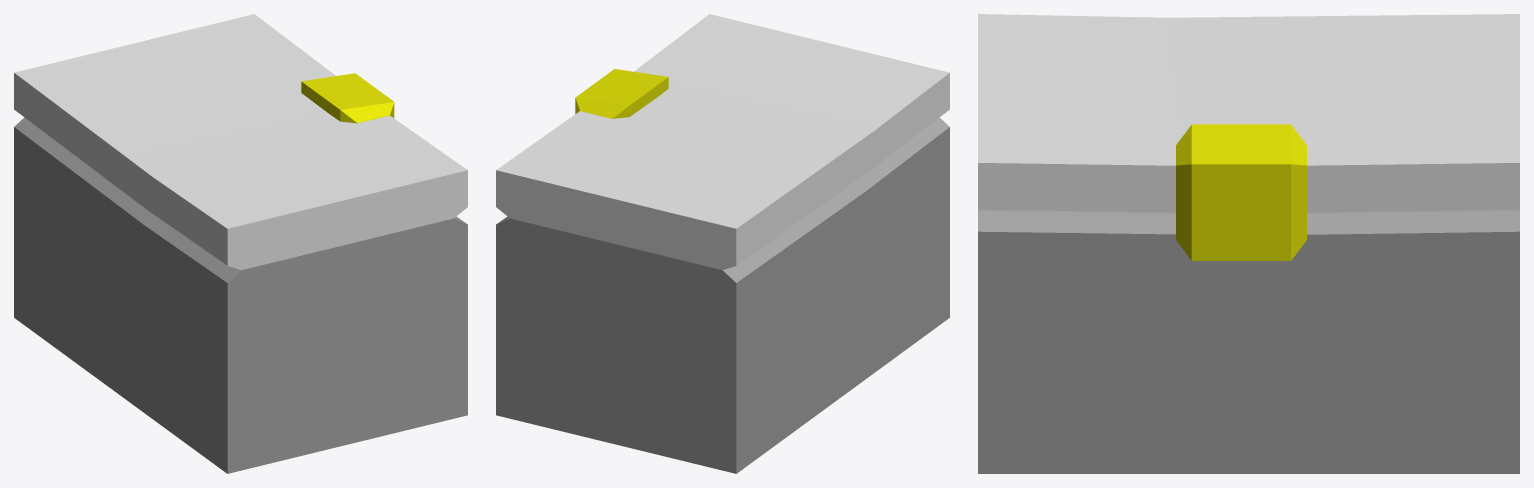
Rendered from BedRoom_ToyBox_Close.fbx.
The picture shows the model from 3 angles, left to right: view 1: azimuth 30°, elevation 25°; view 2: azimuth 150°, elevation 25°; view 3: azimuth 270°, elevation 25°; orthographic projection. The views are drawn at different scales.
Parts seen in each view (by area): view 1: BedRoom_ToyBox_Close; view 2: BedRoom_ToyBox_Close; view 3: BedRoom_ToyBox_Close.
Boxes of the visible parts, x1,y1,x2,y2 form: BedRoom_ToyBox_Close: (14,14,467,473); BedRoom_ToyBox_Close: (496,14,949,473); BedRoom_ToyBox_Close: (978,14,1519,473).
Size of the model in its own units: 47.4 by 45.87 by 69.78.
